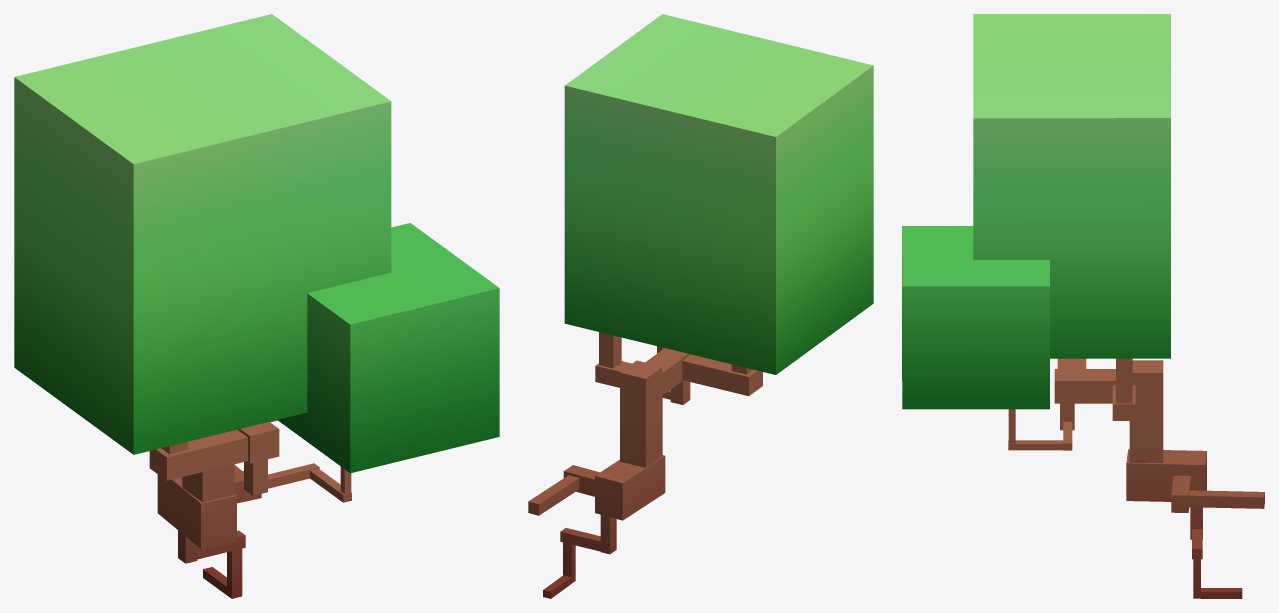
File: SM_Arbre2.FBX
3 renders of one model, left to right at view 1: azimuth 30°, elevation 25°; view 2: azimuth 150°, elevation 25°; view 3: azimuth 270°, elevation 25°, orthographic. The views are drawn at different scales.
Visible parts, largest first — view 1: Box051, Box052, Box034, Box043, Box035, Box042, Box047, Box038, Box048; view 2: Box051, Box035, Box034, Box043, Box041, Box042, Box046, Box037, Box036, Box040, Box045; view 3: Box051, Box052, Box035, Box034, Box042, Box041, Box046, Box040, Box049, Box045.
Part boxes in pixels (<box>): Box051: <box>14,14,391,454</box>; Box052: <box>277,223,499,473</box>; Box034: <box>157,474,236,548</box>; Box043: <box>149,430,247,480</box>; Box035: <box>182,464,234,502</box>; Box042: <box>237,422,279,463</box>; Box047: <box>244,459,267,495</box>; Box038: <box>227,548,242,598</box>; Box048: <box>268,463,319,488</box>; Box051: <box>564,14,873,374</box>; Box035: <box>620,360,662,467</box>; Box034: <box>595,455,665,520</box>; Box043: <box>682,354,762,396</box>; Box041: <box>528,475,579,515</box>; Box042: <box>645,348,690,394</box>; Box046: <box>599,332,621,368</box>; Box037: <box>560,528,600,551</box>; Box036: <box>600,515,616,554</box>; Box040: <box>563,465,599,496</box>; Box045: <box>595,361,631,387</box>; Box051: <box>973,14,1170,358</box>; Box052: <box>902,226,1049,409</box>; Box035: <box>1129,360,1163,462</box>; Box034: <box>1126,449,1206,501</box>; Box042: <box>1054,369,1115,403</box>; Box041: <box>1189,490,1264,508</box>; Box046: <box>1116,358,1132,403</box>; Box040: <box>1171,475,1190,512</box>; Box049: <box>1008,440,1063,450</box>; Box045: <box>1112,385,1135,420</box>.
Size of the model in its own units: 285 by 496 by 334.
